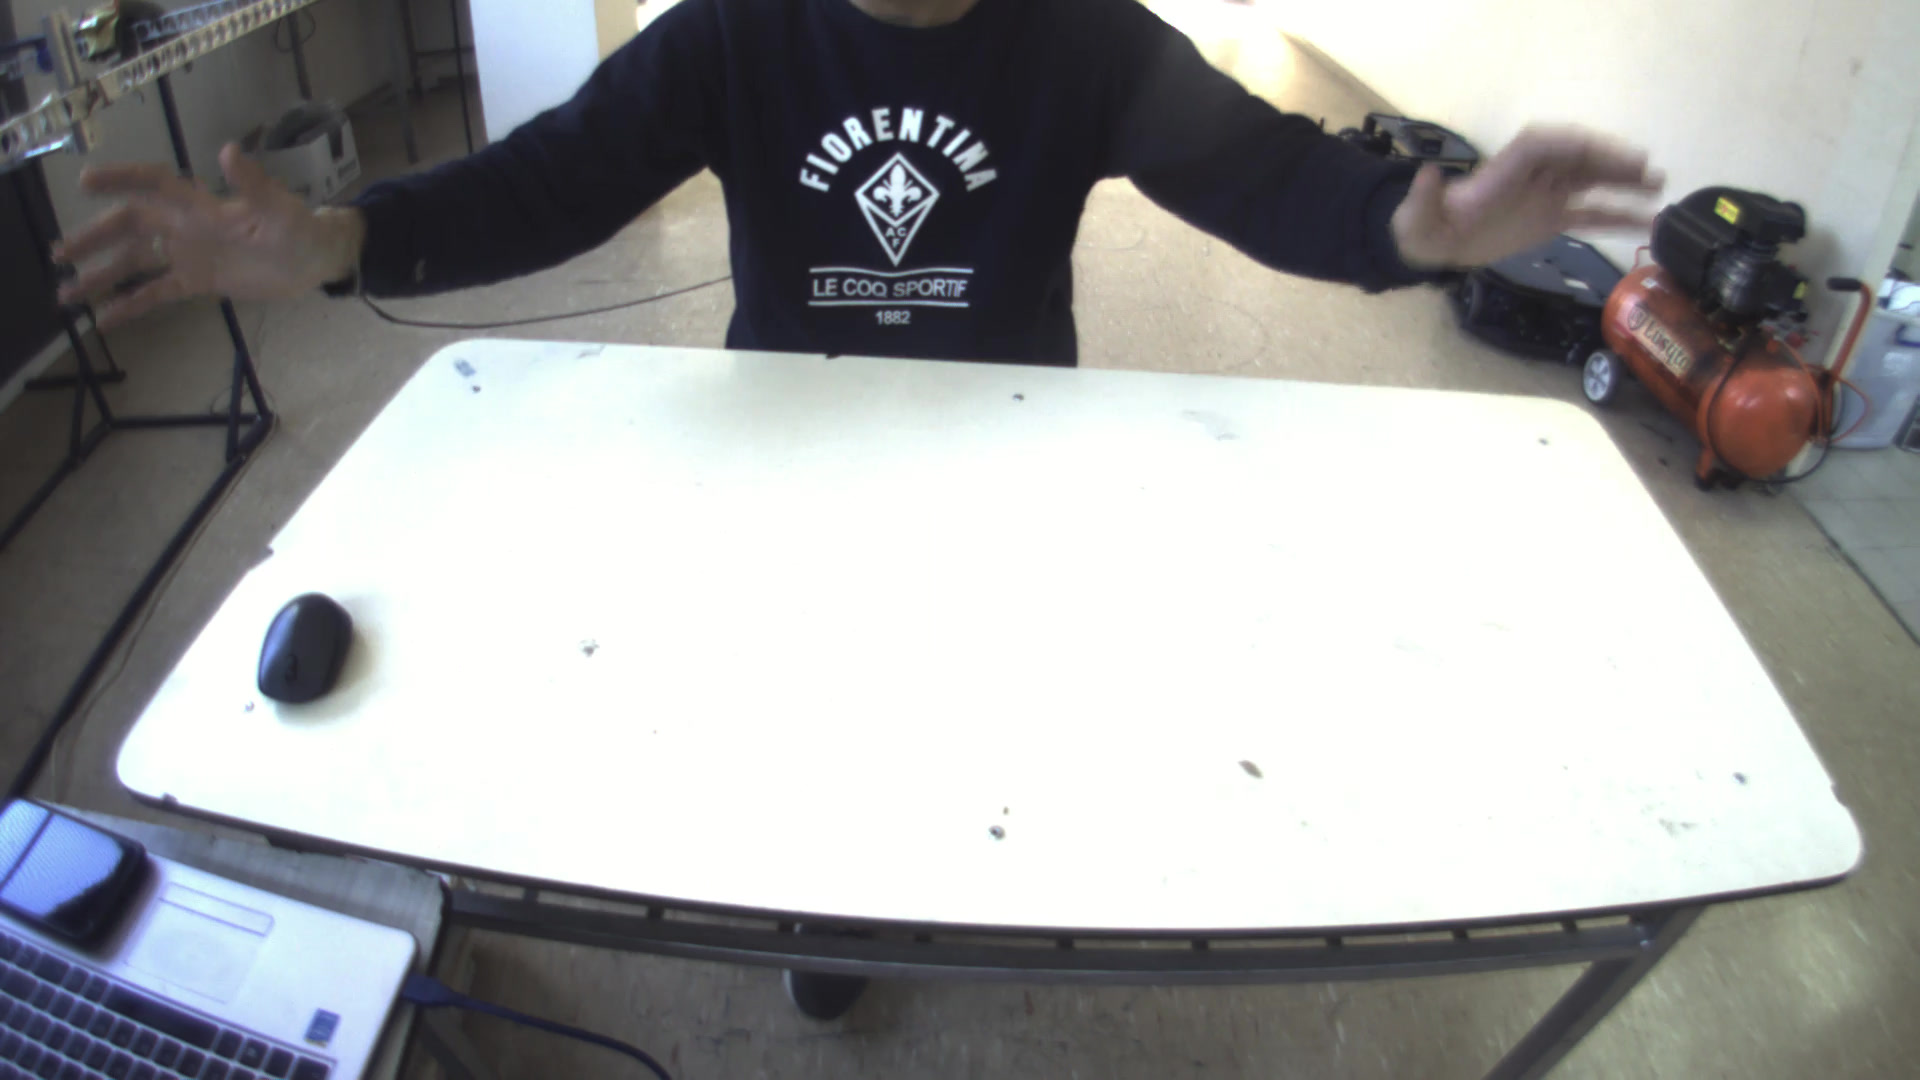hand: (36, 129, 371, 328), (1404, 108, 1665, 270)
